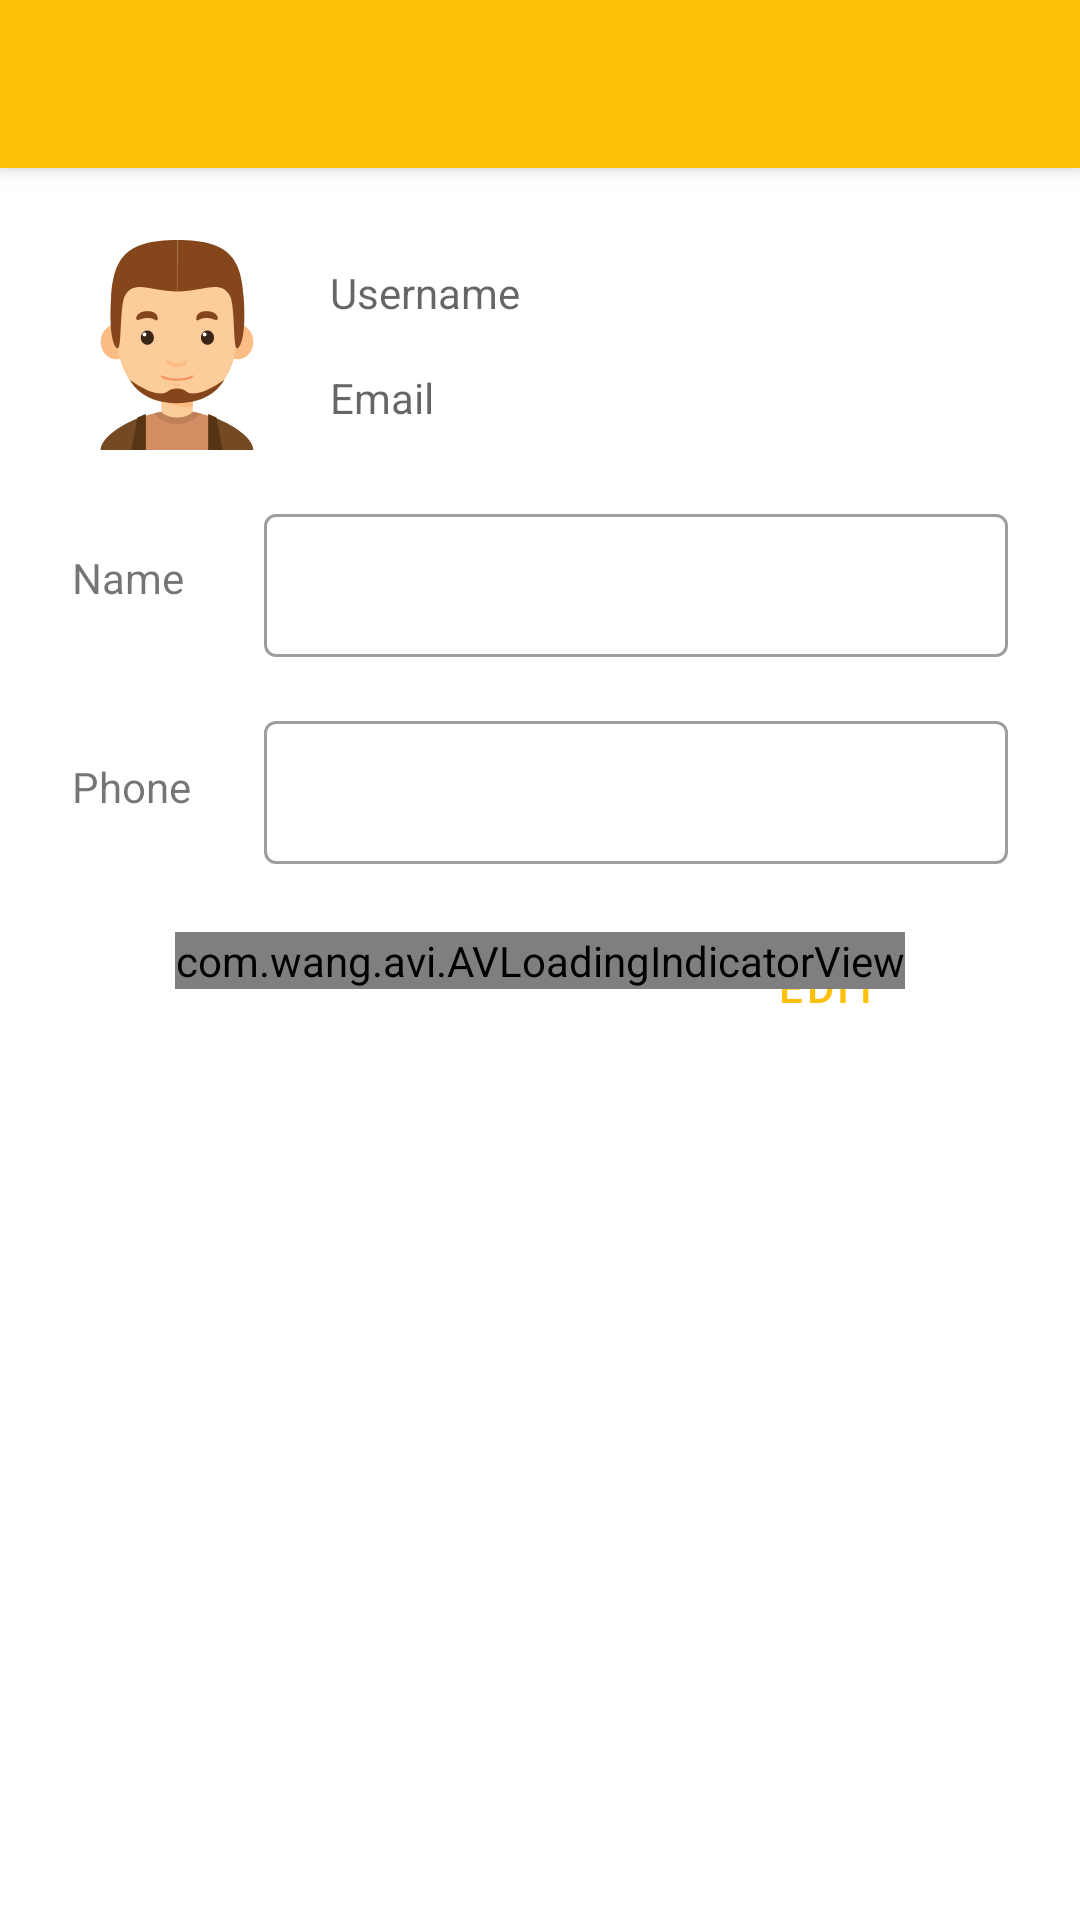

Named icons in this screenshot (1080w x 1920h) and their centers, (x=x, y=y):
male: (x=177, y=345)
